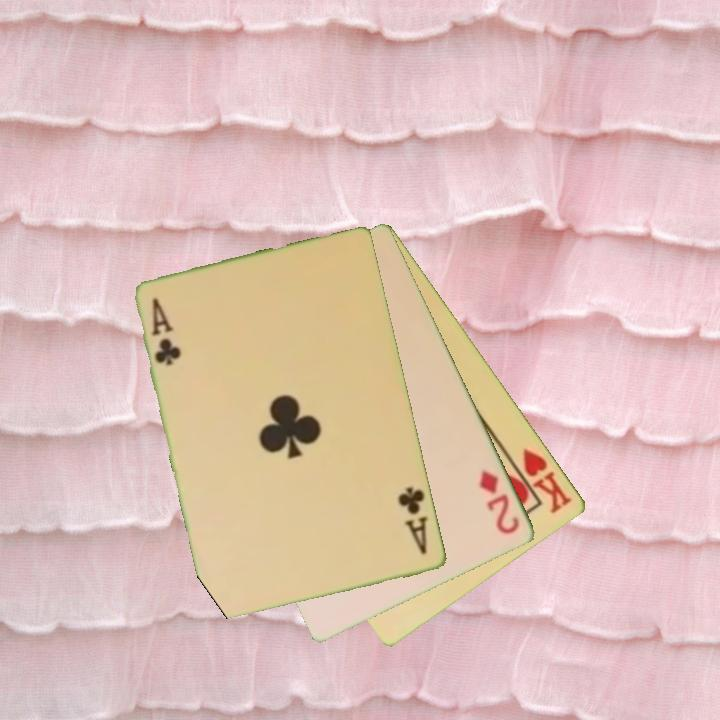2d: (476, 467, 523, 538)
Ac: (394, 483, 432, 558), (148, 294, 185, 369)
Kh: (506, 444, 575, 517)
